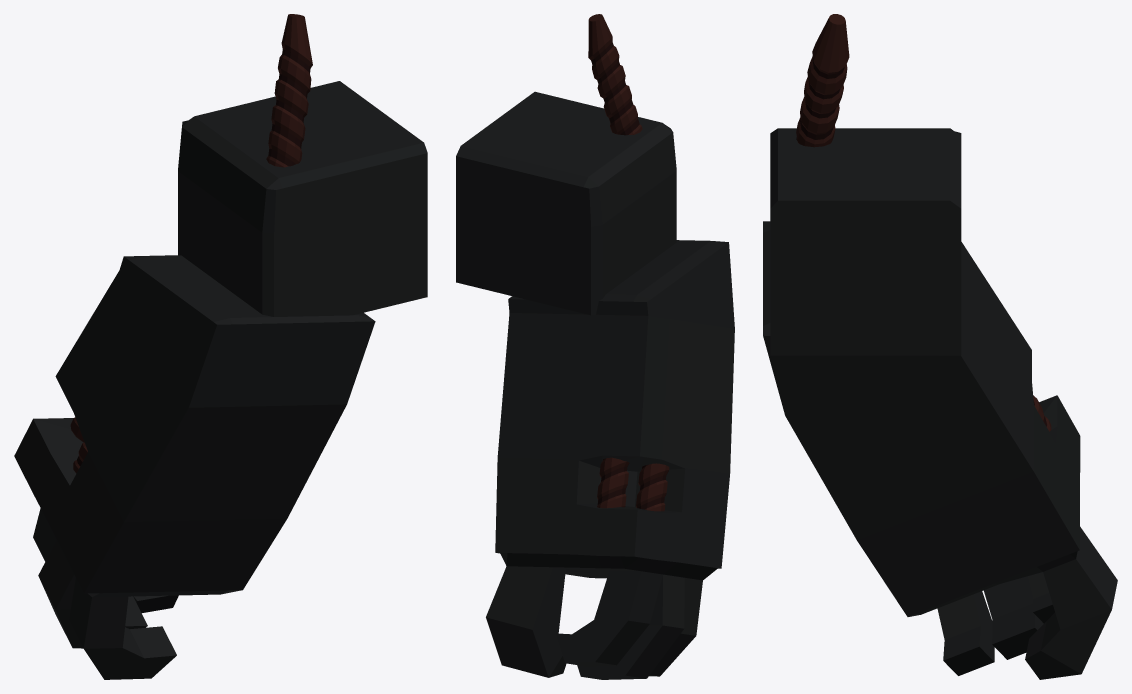
File: Golem_R_Arm.fbx
3 views of the same model, side by side, from view 1: azimuth 30°, elevation 25°; view 2: azimuth 150°, elevation 25°; view 3: azimuth 270°, elevation 25° (orthographic). The views are drawn at different scales.
Visible parts, largest first — view 1: Golem_R_Arm; view 2: Golem_R_Arm; view 3: Golem_R_Arm.
Boxes of the visible parts, x1,y1,x2,y2 form: Golem_R_Arm: (14,14,427,679); Golem_R_Arm: (456,14,734,679); Golem_R_Arm: (763,14,1117,679).
Bounding box in the file's own units: 79.94 × 190 × 87.01.
